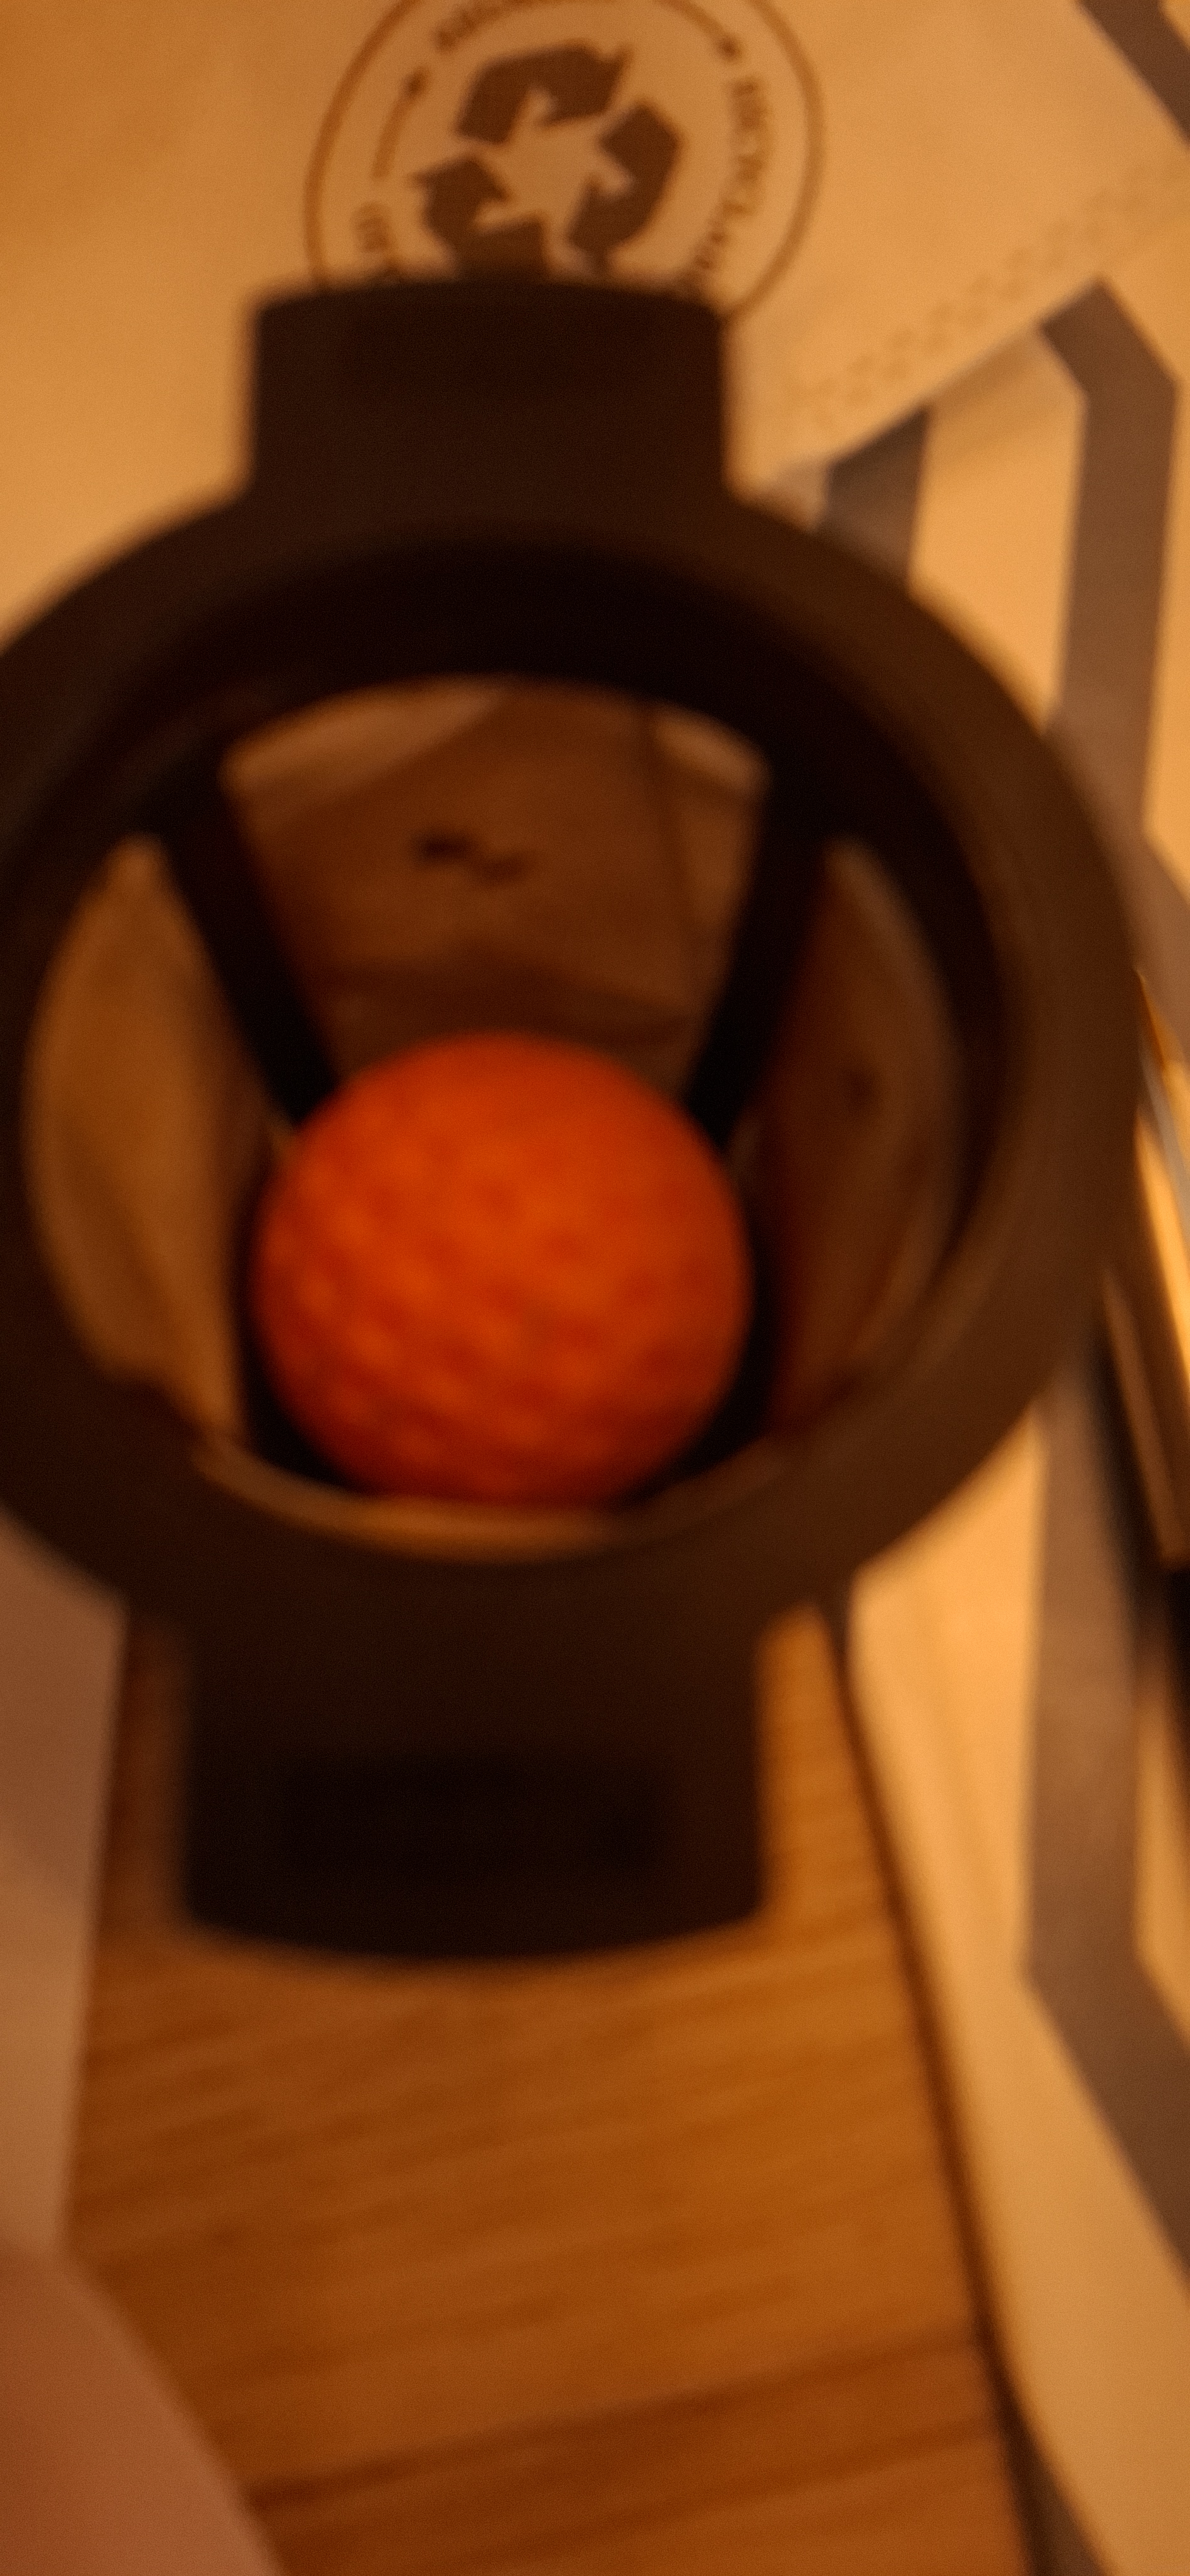ball: (480, 968, 694, 2022)
